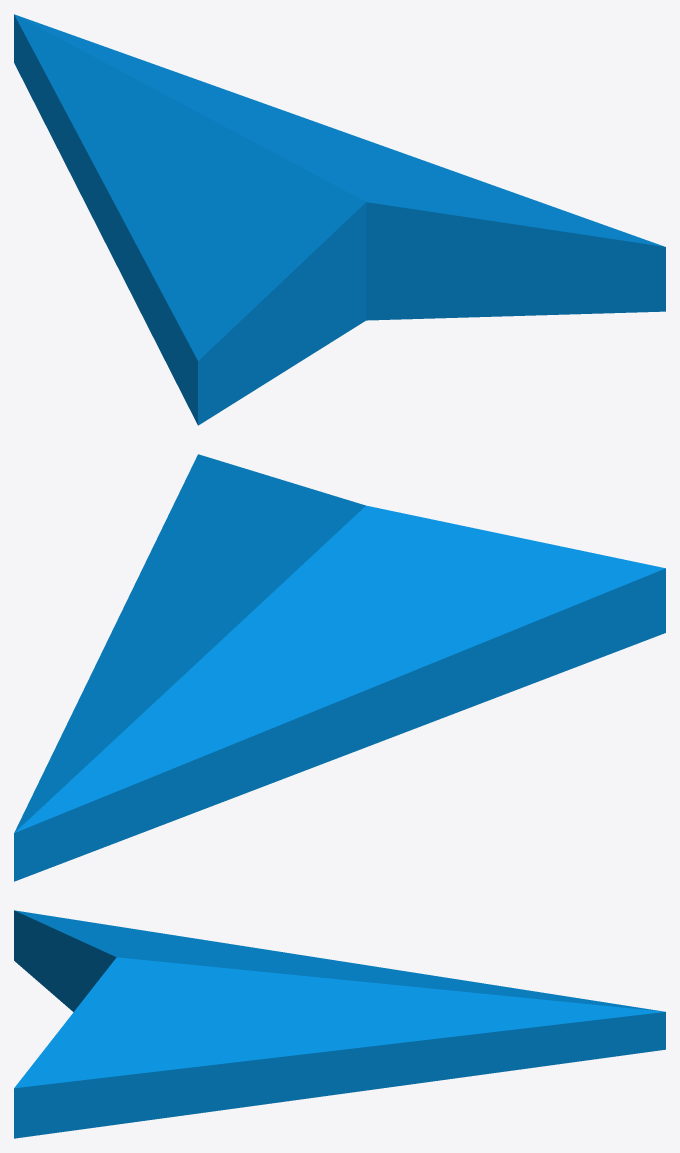
The model's file is arrow.fbx.
3 views of the same model, one above another, from view 1: azimuth 30°, elevation 25°; view 2: azimuth 150°, elevation 25°; view 3: azimuth 270°, elevation 25° (orthographic). The views are drawn at different scales.
Visible parts, largest first — view 1: Cube; view 2: Cube; view 3: Cube.
Part boxes in pixels (x1,y1,x2,y2): Cube: (14, 14, 665, 425); Cube: (14, 454, 665, 881); Cube: (14, 910, 665, 1138).
Size of the model in its own units: 1.53 by 0.3711 by 2.37.
